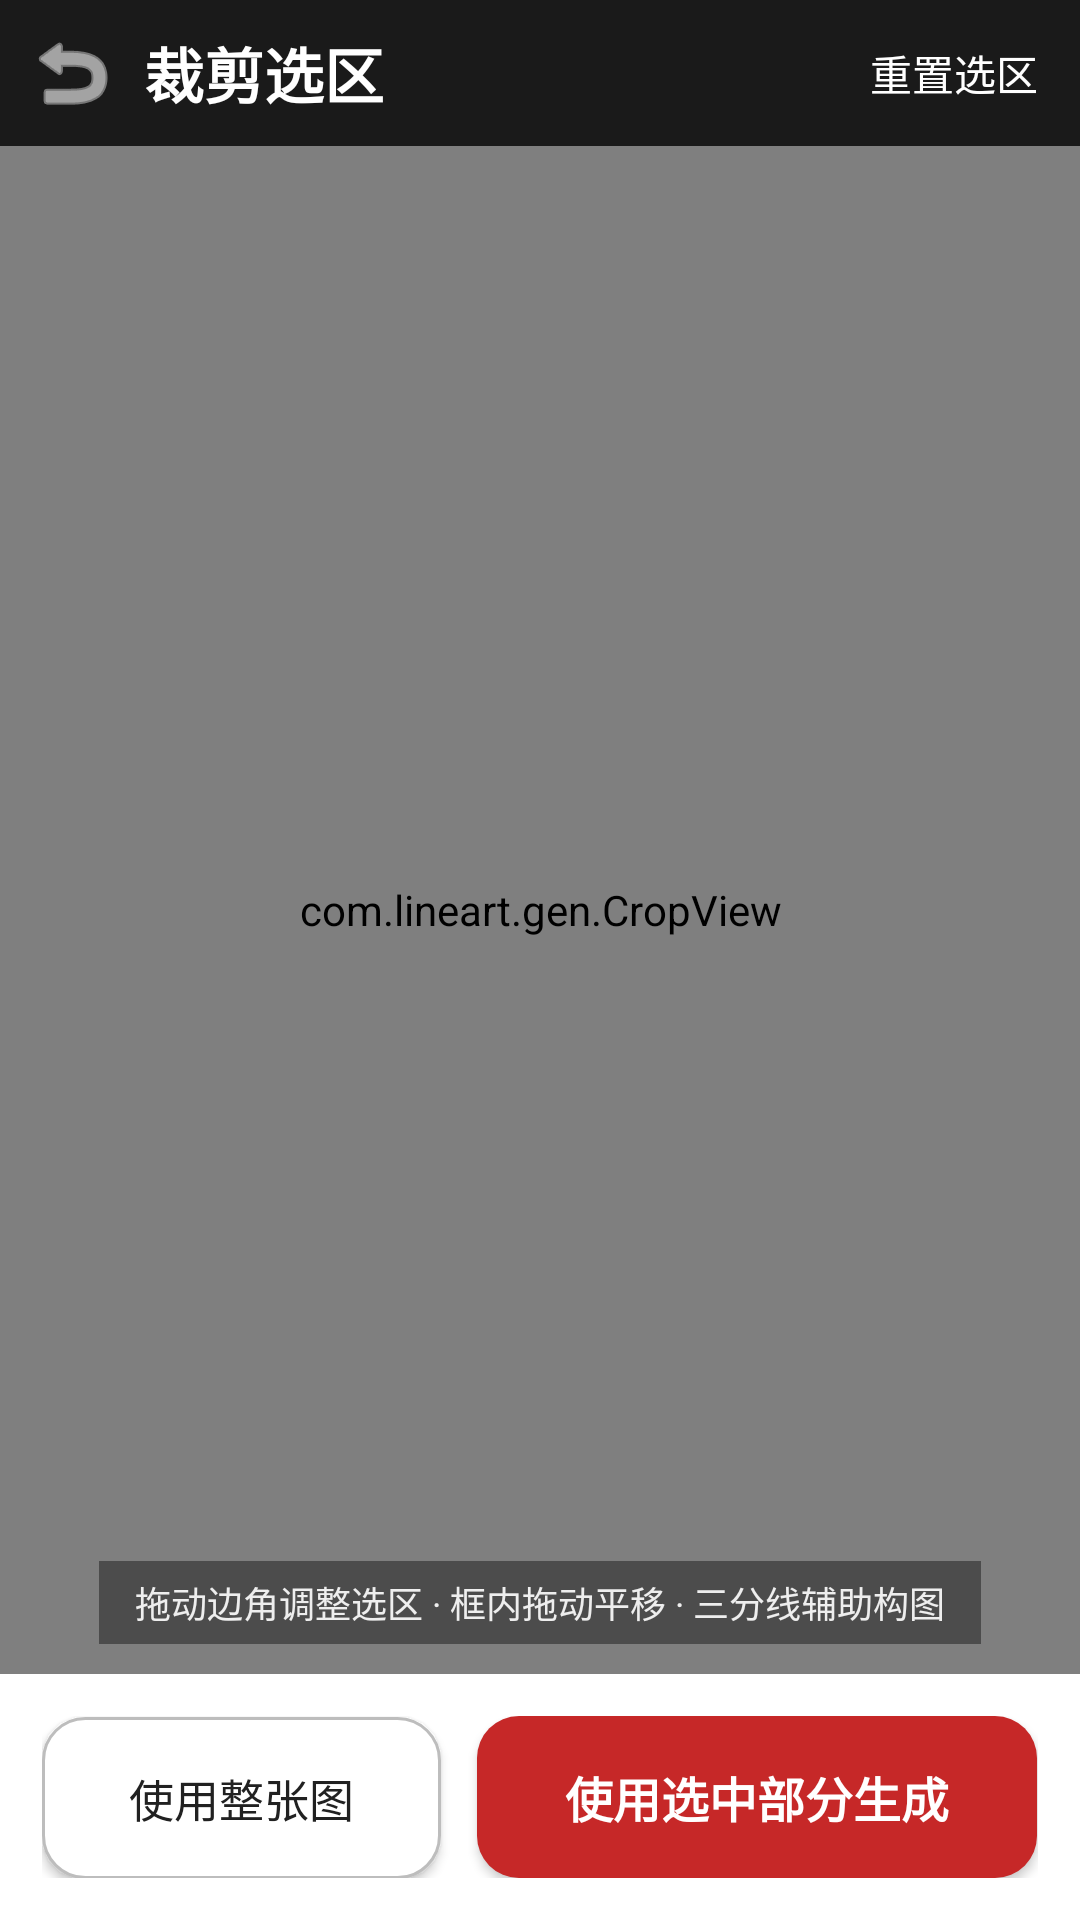

Icons on this 1080x1920 Android screen, each with the point to tap as (x=x, y=y):
revert: (x=73, y=73)
